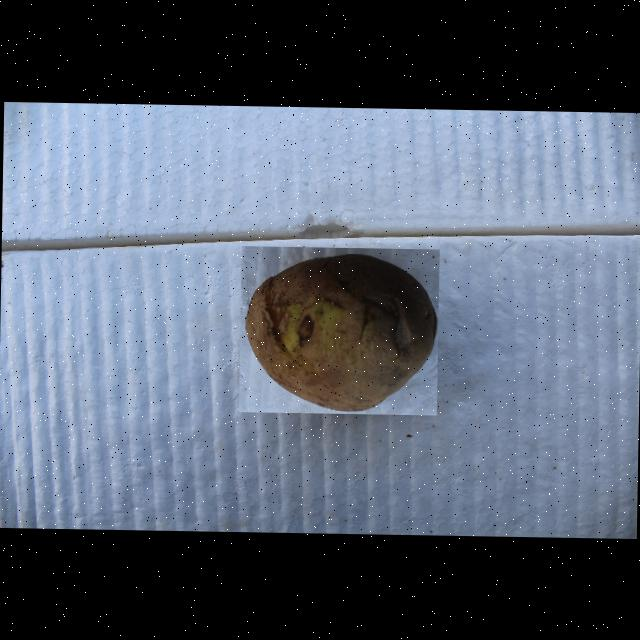Diseased-fungal potato: (238, 246, 440, 415)
